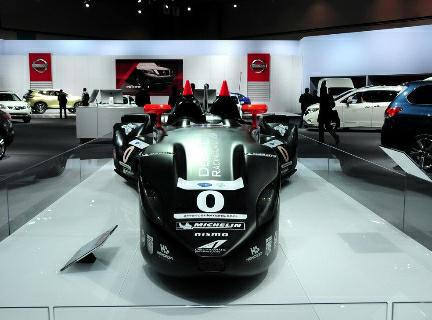日产-DeltaWing: (102, 78, 306, 289)
